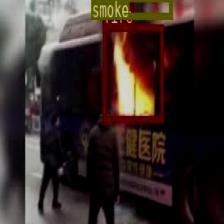fire: (102, 23, 162, 122)
smoke: (91, 0, 172, 19)
